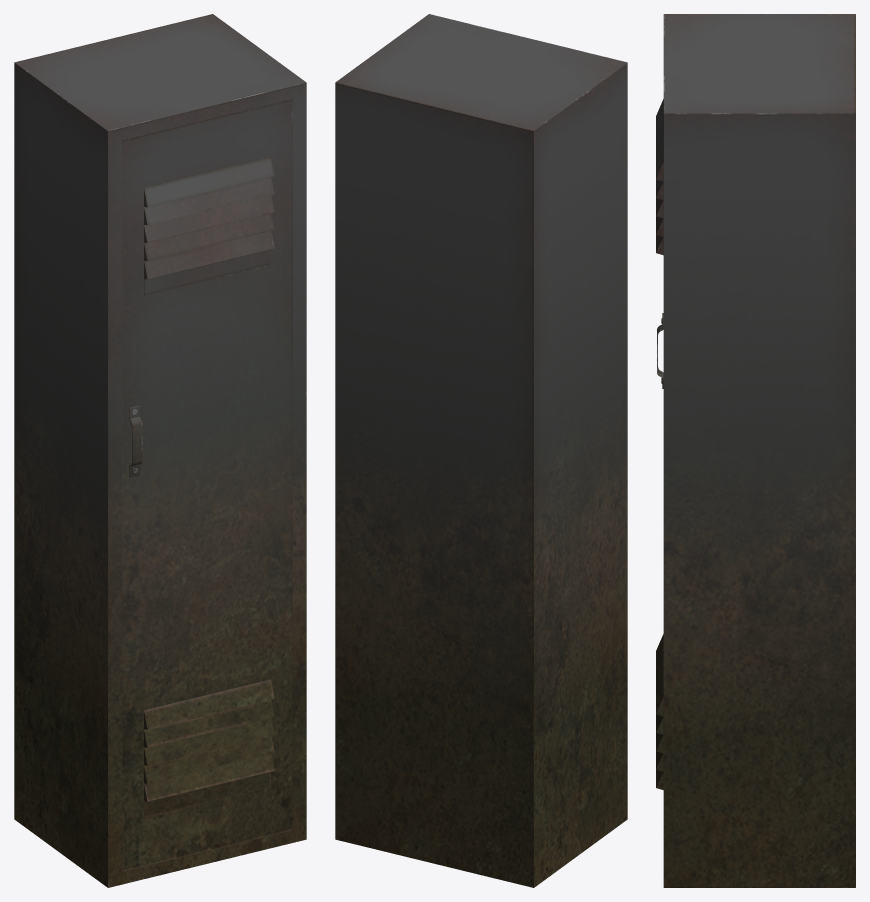
The model's file is low_poly_old_locker.glb.
3 renders of one model, left to right at view 1: azimuth 30°, elevation 25°; view 2: azimuth 150°, elevation 25°; view 3: azimuth 270°, elevation 25°, orthographic. The views are drawn at different scales.
Parts seen in each view (by area): view 1: Cube.004; view 2: Cube.004; view 3: Cube.004.
Part boxes in pixels (<box>): Cube.004: <box>14,14,306,887</box>; Cube.004: <box>335,14,627,887</box>; Cube.004: <box>656,14,855,887</box>.
Bounding box in the file's own units: 0.5502 × 2 × 0.4676.
Materials: 1 (1 with a texture image).
